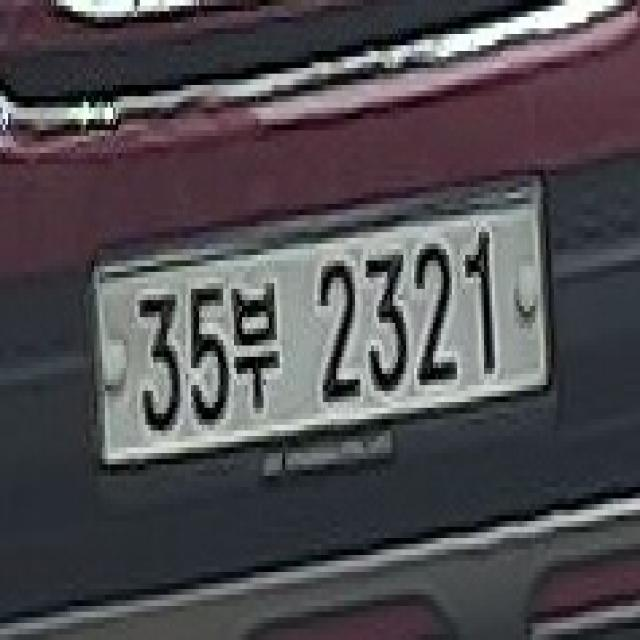1: (462, 226, 495, 380)
2: (409, 232, 460, 385), (315, 255, 360, 402)
3: (363, 238, 409, 396), (137, 289, 183, 436)
5: (183, 278, 228, 430)
bu: (231, 278, 280, 419)
license_plate: (86, 175, 551, 476)
